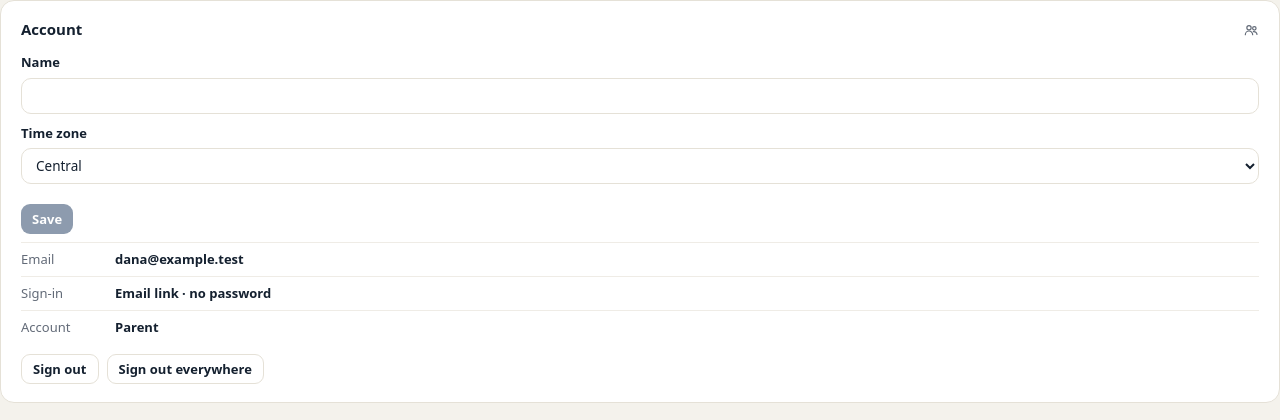
Test: AccountCard › lets a parent set a first name and time zone (R2I-3)
This screenshot has width=1280, height=420.
Expected: the button "Save" is disabled, [21, 204, 73, 234]
Type " Dana Rivera " into the field labelled "Name".
click(640, 96); type(" Dana Rivera ")  # box [21, 78, 1259, 114]
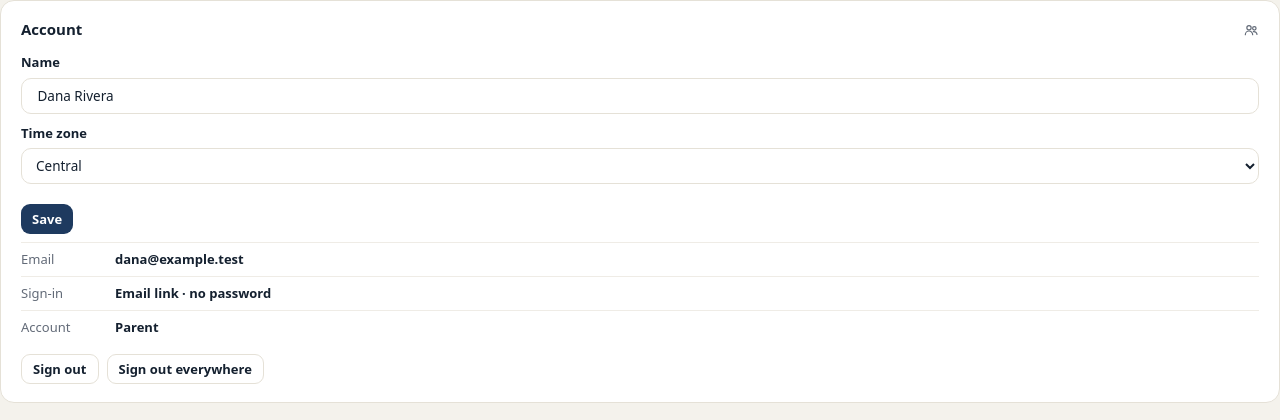
Select "Eastern" in the dropdown labelled "Time zone" at (640, 166), box [21, 148, 1259, 184]
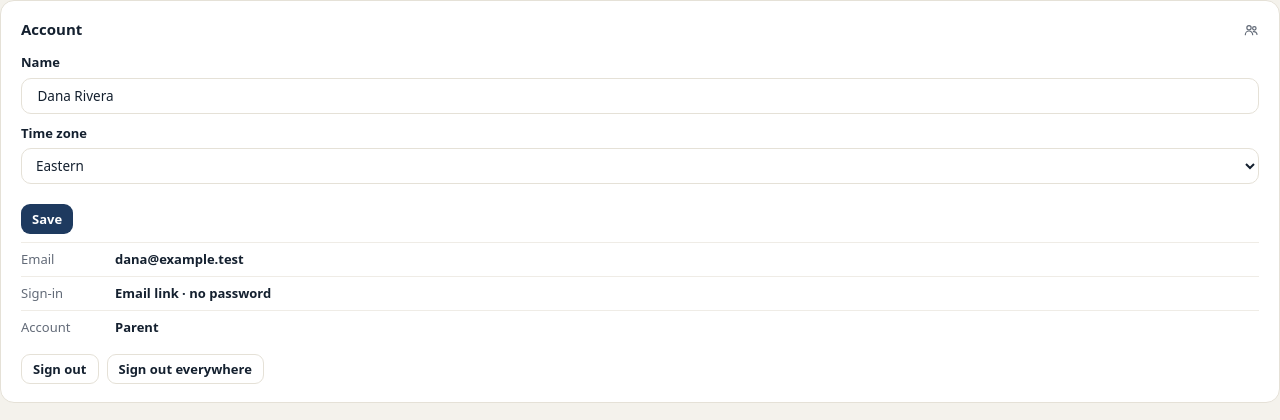
Click the button "Save".
click(47, 219)  # box [21, 204, 73, 234]
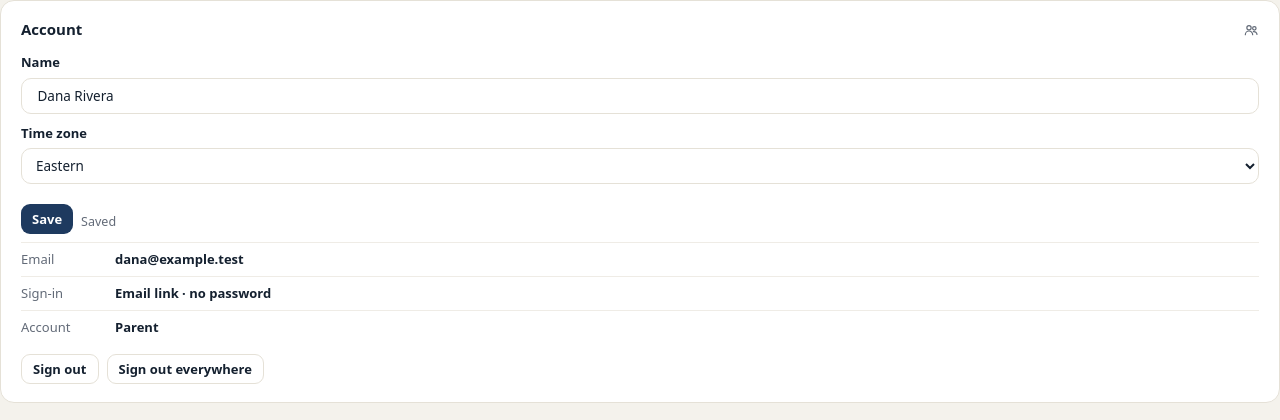
Expected: the text "Parent" is shown, [115, 318, 158, 336]
Now the text "Saved" is shown, box [81, 213, 116, 232]
